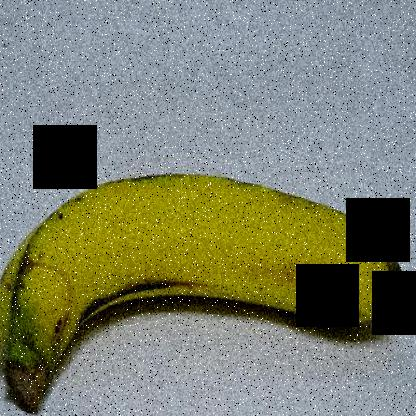freshripe: (0, 162, 414, 415)
